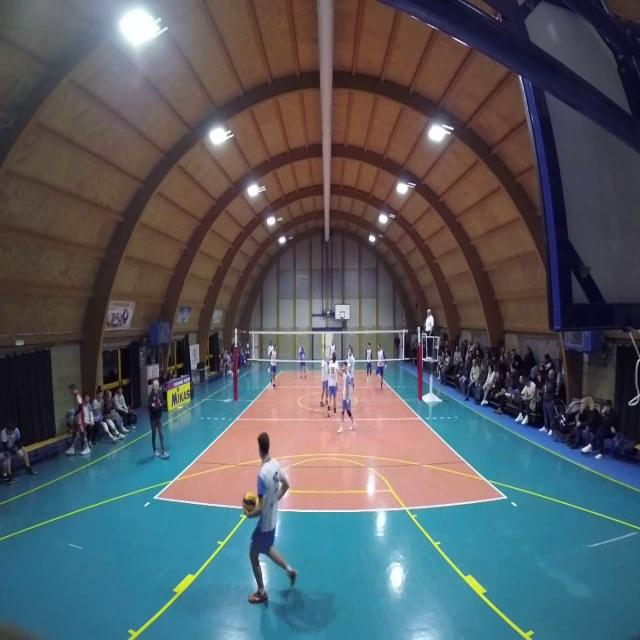Volleyball: (242, 492, 257, 514)
